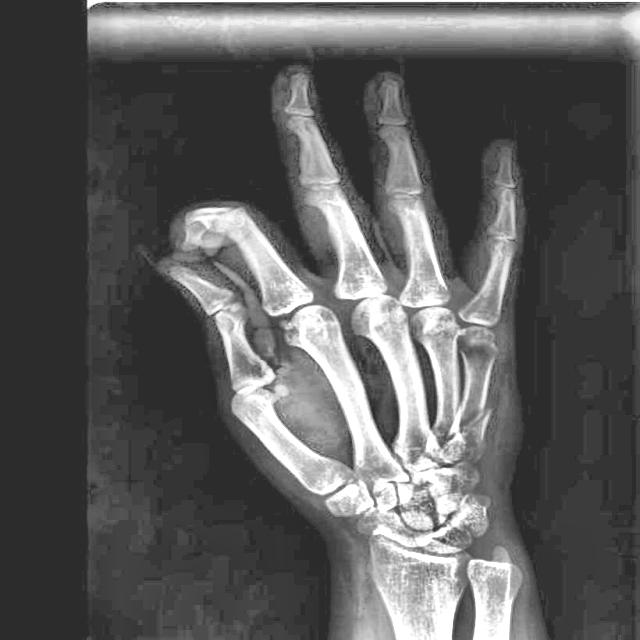fracture: (181, 202, 240, 235), (459, 406, 492, 436), (236, 382, 276, 405), (280, 322, 306, 349), (218, 301, 246, 325)
